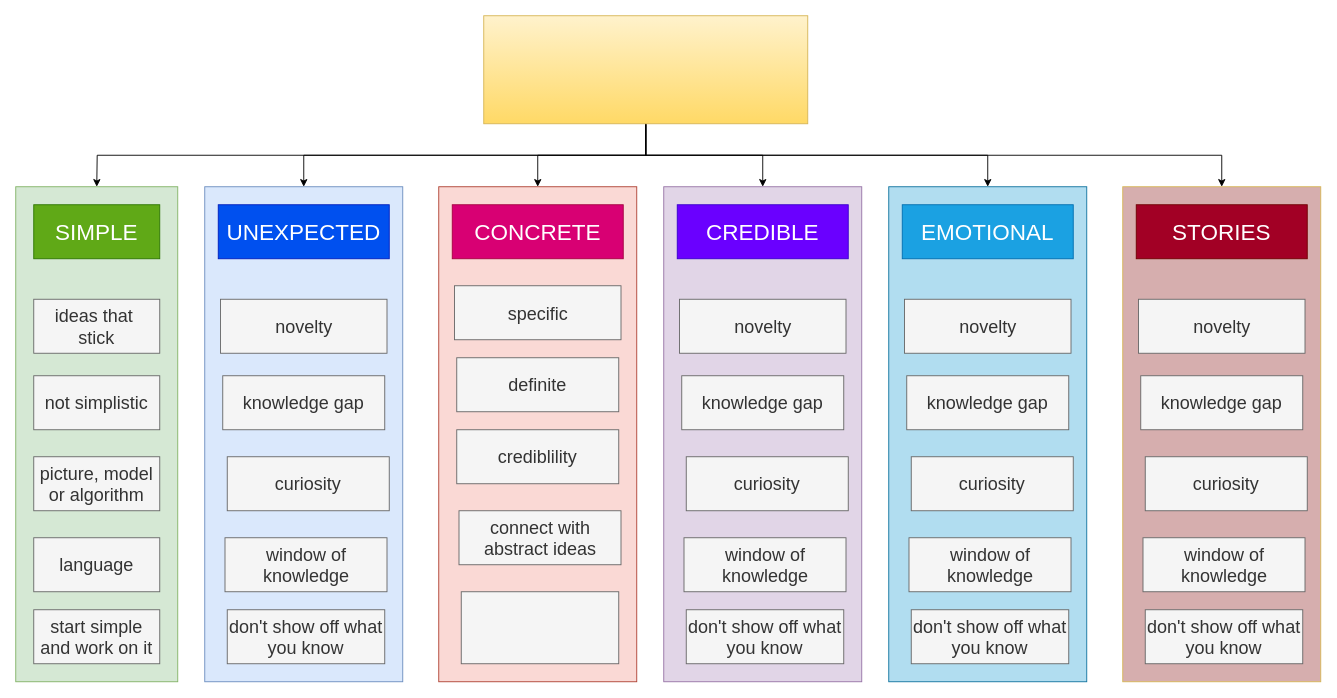
The diagram is 1337 pixels wide and 698 high, and some of its shapes have lost their labels. The centre of each missing label's shape, as x and y in pixels:
CHAPTER 3 MAKING A STORY STICKY: the point at 645,69
ground the concepts in concrete: the point at 539,627
